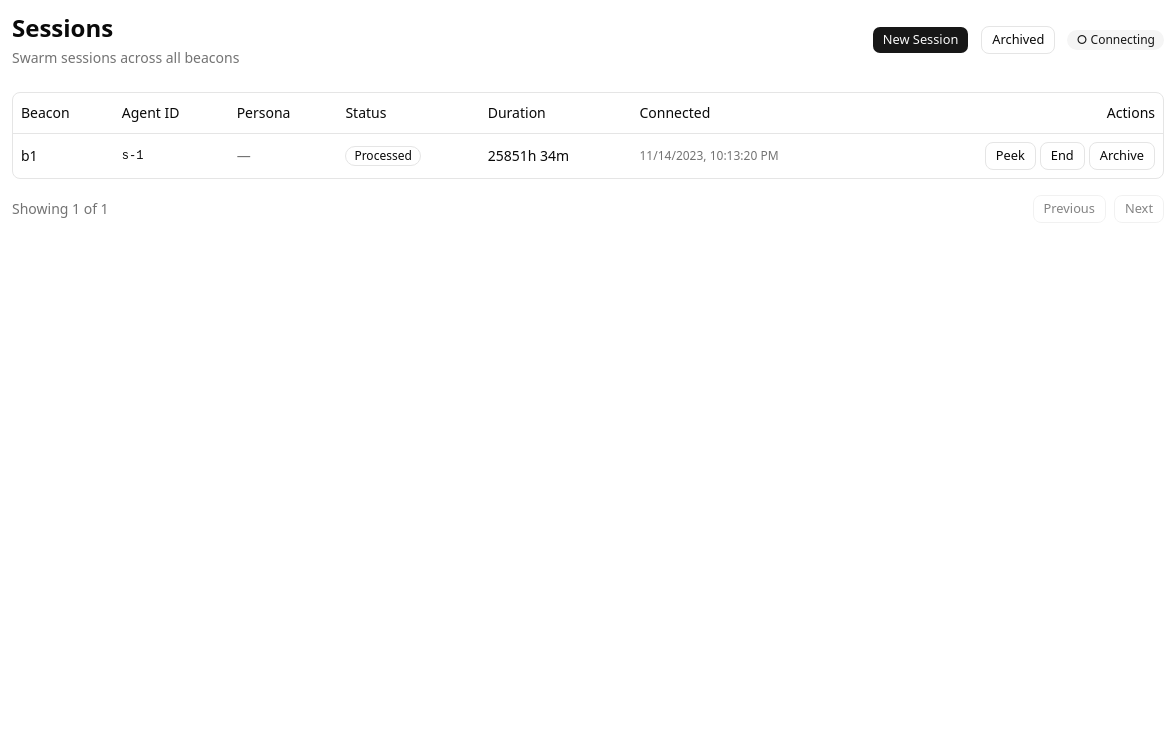
Test case: SessionsPage archive actions › failed archive shows an error toast and keeps the row
The image size is (1176, 732).
Check: the text "Processed" is shown, box [345,146,421,166]
Click the button "Archive" at (1122, 156), box [1089,142,1155,170]
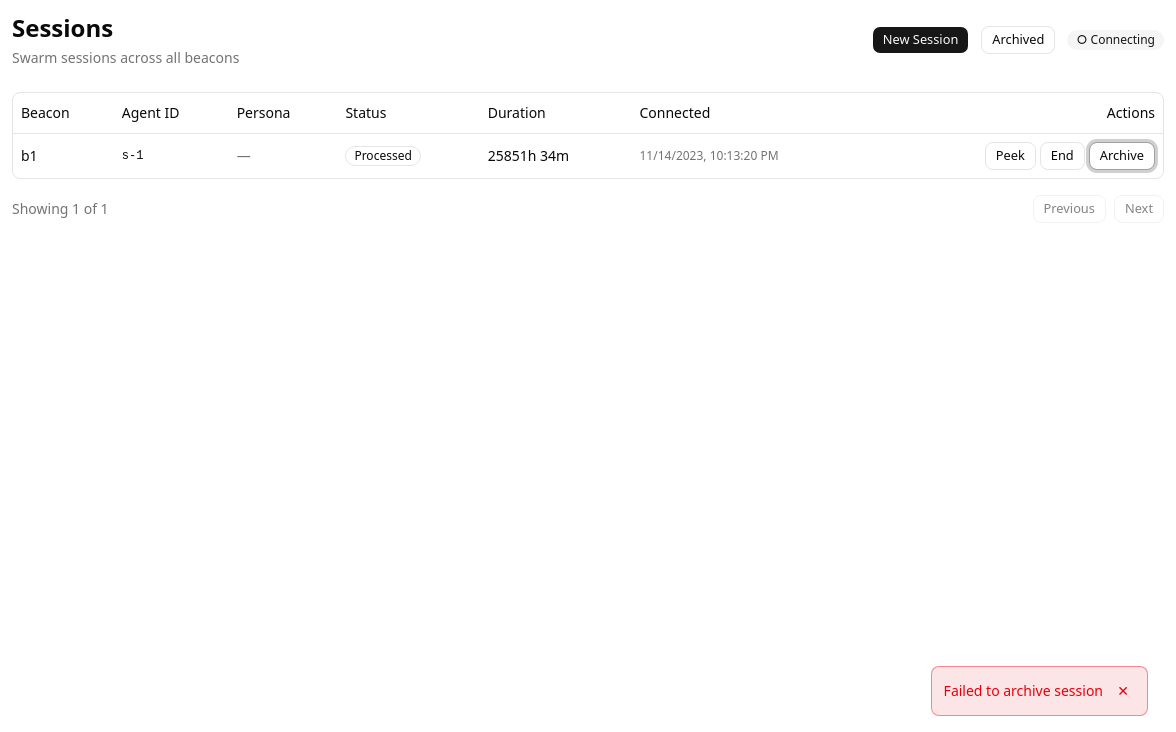
Check: the text "s-1" is shown, box [114,133,229,178]
Check: the message shows "Failed to archive session", box [944,681,1103,700]
